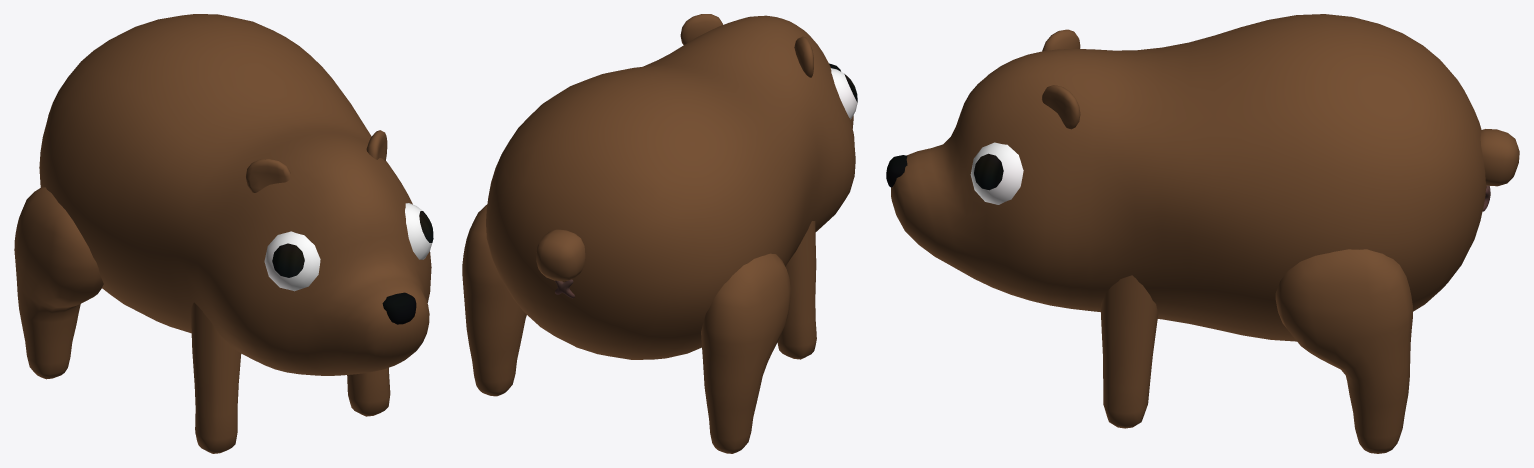
Rendered from Gau.FBX.
3 views of the same model, side by side, from view 1: azimuth 30°, elevation 25°; view 2: azimuth 150°, elevation 25°; view 3: azimuth 270°, elevation 25° (orthographic). The views are drawn at different scales.
Parts seen in each view (by area): view 1: gau_long; view 2: gau_long; view 3: gau_long.
Boxes of the visible parts, x1,y1,x2,y2 form: gau_long: (14,14,433,453); gau_long: (462,14,857,453); gau_long: (886,14,1519,453).
Size of the model in its own units: 202 by 203 by 327.
